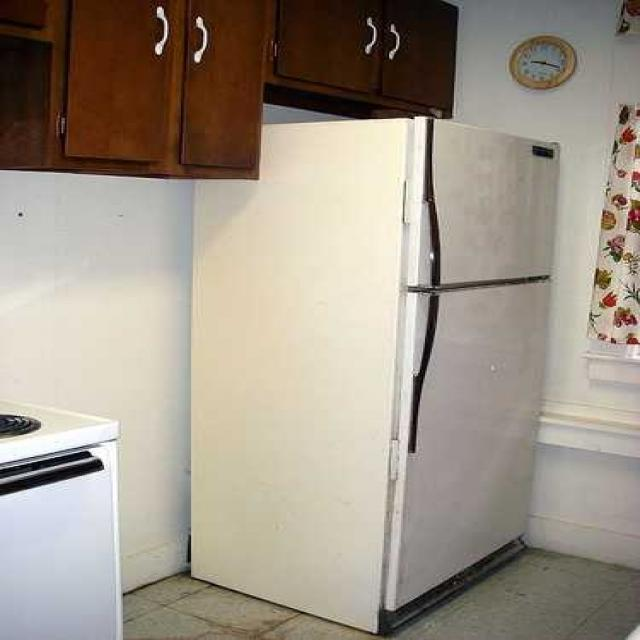refrigerator: (376, 115, 570, 632)
